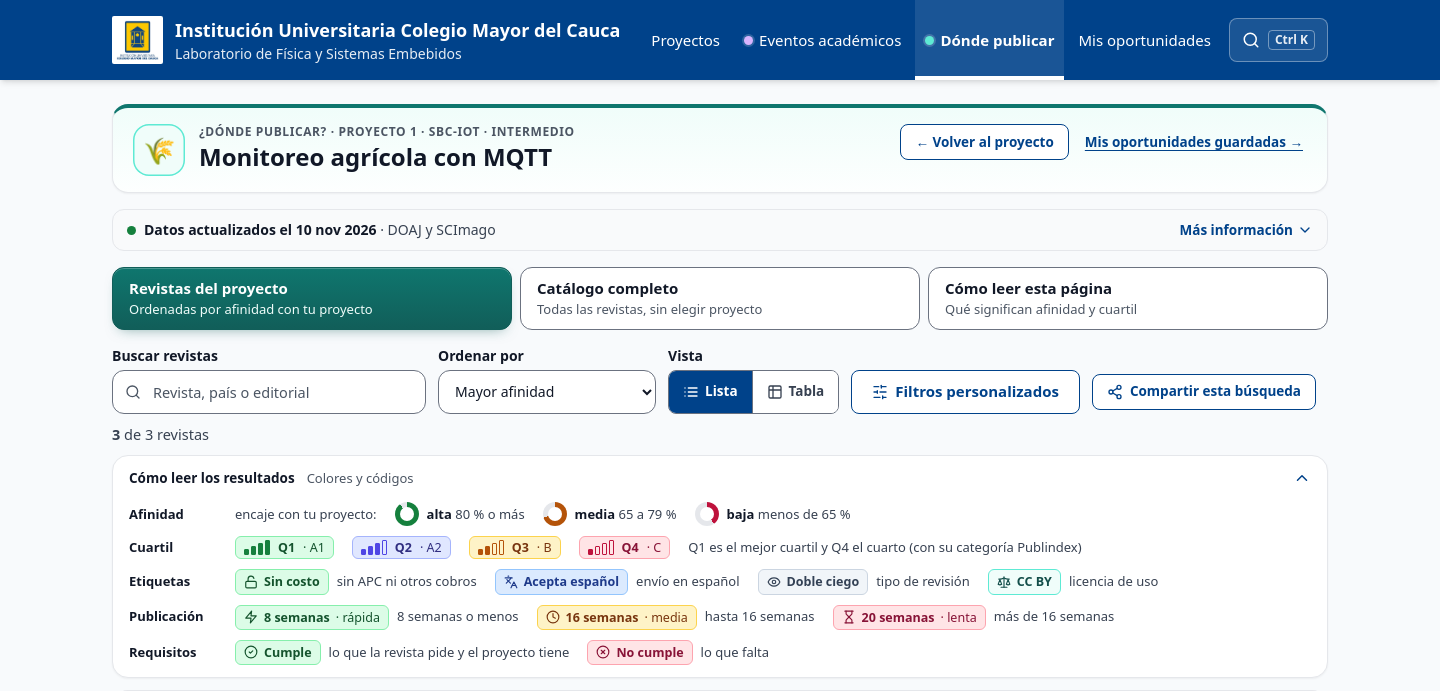
Test: /donde-publicar: data status › the table view also says the affinity with a word
What coordinates should you click on to do the following:
click the button "Tabla"
I would click on:
 (795, 392)
Its box is [752,370,838,412].
(page scrolled)
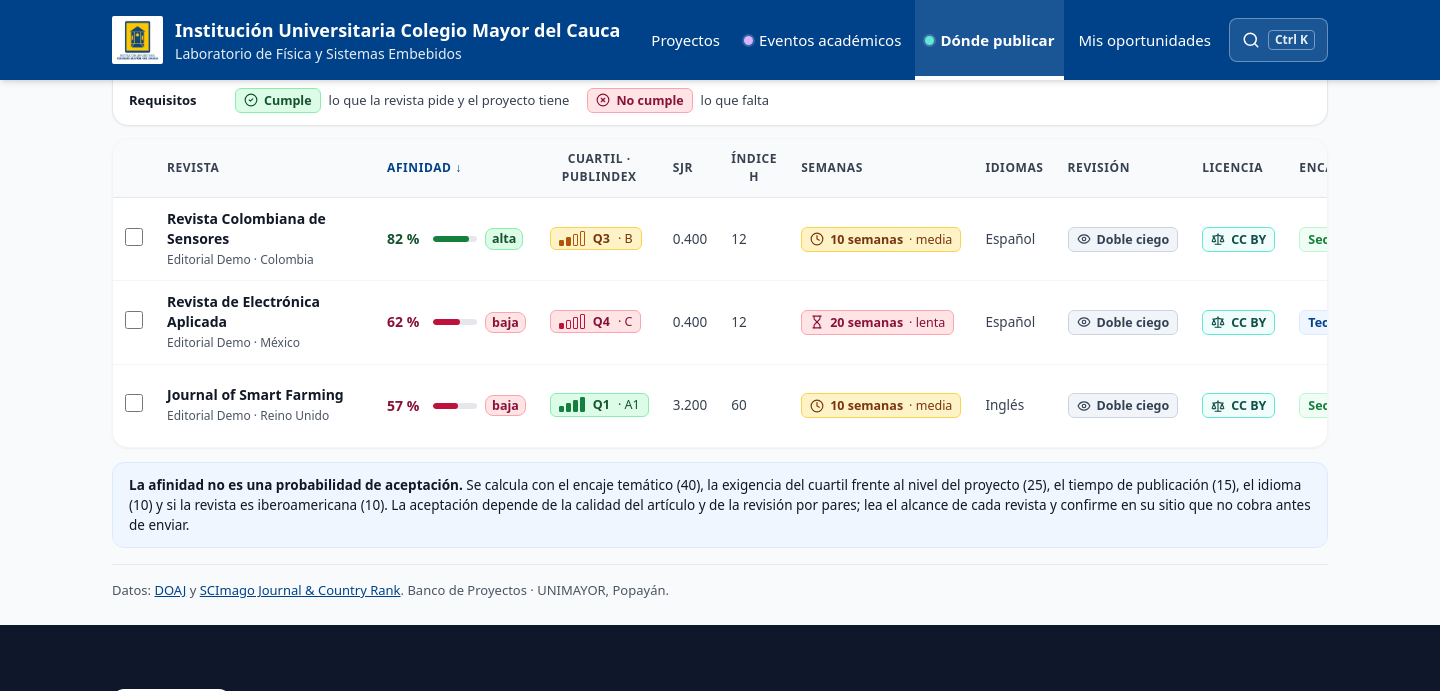
Expected: the text "alta" is shown, [485,228,523,250]
Expected: the text "baja" next to "62" is shown, [492,314,519,331]
Expected: the text "baja" next to "57" is shown, [492,397,519,414]
